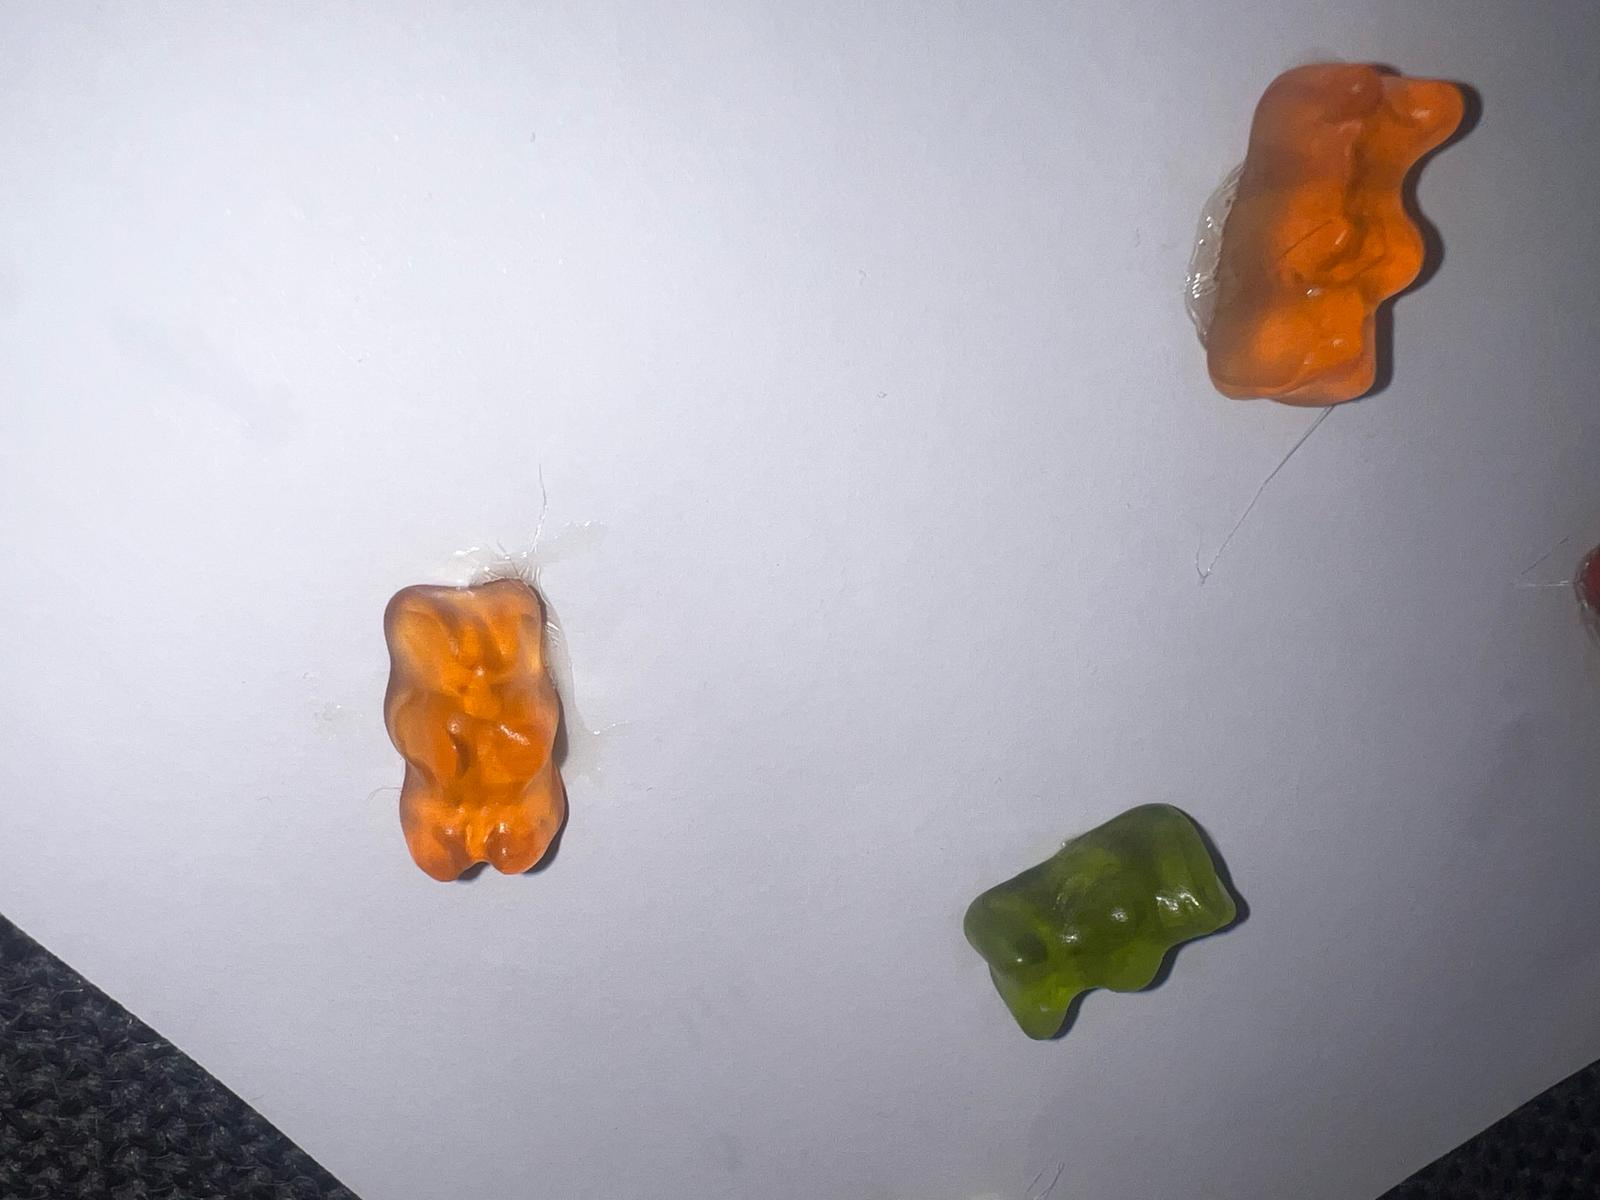gummybear: (1197, 52, 1484, 418), (955, 798, 1251, 1045), (370, 571, 576, 892)
